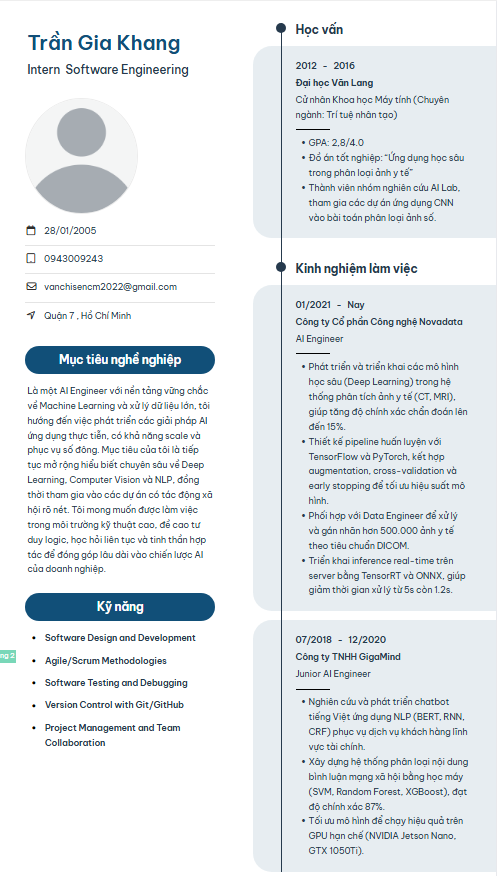address: (23, 305, 145, 334)
gpa: (297, 133, 368, 147)
level: (22, 57, 61, 83)
position: (63, 60, 193, 81)
skill: (18, 587, 223, 760)
